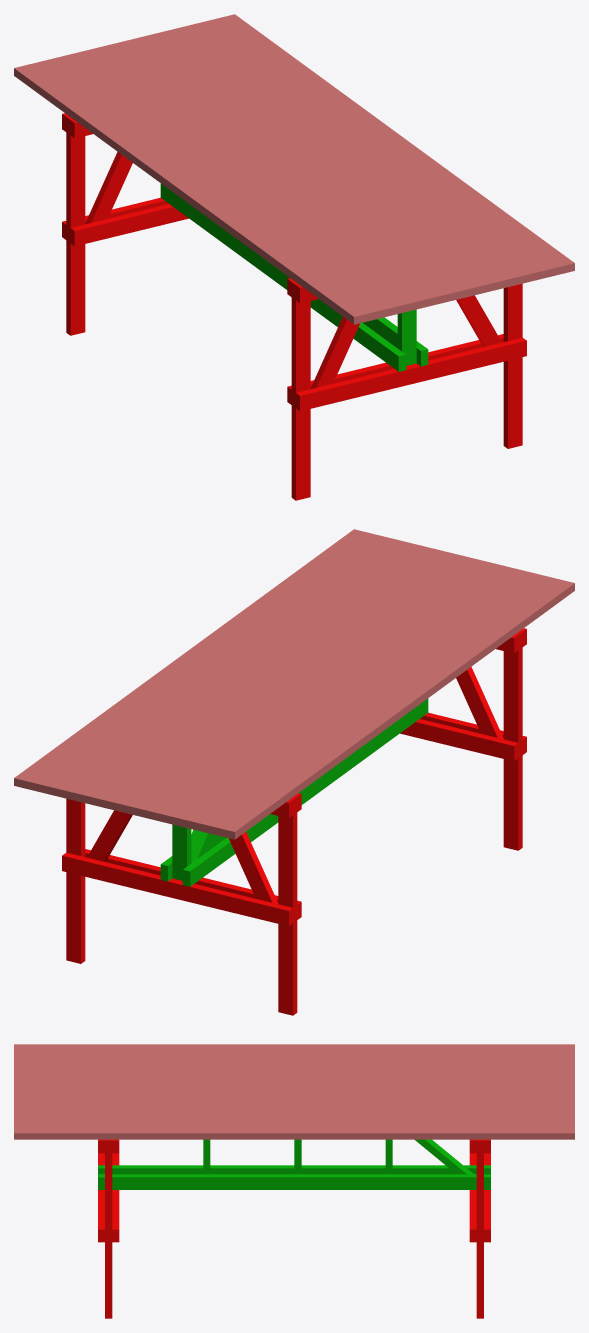
Rendered from result.glb.
The picture shows the model from 3 angles, top to bottom: view 1: azimuth 30°, elevation 25°; view 2: azimuth 150°, elevation 25°; view 3: azimuth 270°, elevation 25°; orthographic projection. The views are drawn at different scales.
Parts seen in each view (by area): view 1: 29fb6596-941a-4d75-aa5b-a5105dc0f8bb__Box, dbf89d74-5f5f-48b8-b1f4-766f8b34c71e__undefined, e744bcac-16fc-46ec-aa03-03eb96029df6__undefined, d8bd2403-8697-4de5-86af-fe728edfdbf6__undefined, 7c765e5b-6cc5-48ab-8eaf-bb7136bedc7c__undefined, 5e24ded6-2e00-4564-b383-c591698852e8__undefined, fd0d709c-c1bd-4bf1-bebe-00cd00451332__undefined, 77e1605f-d9fe-44b2-9e23-e1fc3f649407__undefined, 3b367b04-fcf6-48ce-a17d-4eda5212b355__undefined, 6c9b6258-ed95-4ae9-98ca-1581d162d547__undefined, 0b53a307-1646-45ce-bebf-f7389d0db0a7__undefined, ac2afbc3-1922-4e35-91b4-c4af0ae17771__undefined (+16 smaller); view 2: 29fb6596-941a-4d75-aa5b-a5105dc0f8bb__Box, dbf89d74-5f5f-48b8-b1f4-766f8b34c71e__undefined, e744bcac-16fc-46ec-aa03-03eb96029df6__undefined, d8bd2403-8697-4de5-86af-fe728edfdbf6__undefined, 7c765e5b-6cc5-48ab-8eaf-bb7136bedc7c__undefined, 5e24ded6-2e00-4564-b383-c591698852e8__undefined, fd0d709c-c1bd-4bf1-bebe-00cd00451332__undefined, 77e1605f-d9fe-44b2-9e23-e1fc3f649407__undefined, 3b367b04-fcf6-48ce-a17d-4eda5212b355__undefined, 6c9b6258-ed95-4ae9-98ca-1581d162d547__undefined, 0b53a307-1646-45ce-bebf-f7389d0db0a7__undefined, ac2afbc3-1922-4e35-91b4-c4af0ae17771__undefined (+15 smaller); view 3: 3b367b04-fcf6-48ce-a17d-4eda5212b355__undefined, b593c10b-8e25-4141-84f9-98051e73812d__strutH, 29fb6596-941a-4d75-aa5b-a5105dc0f8bb__Box, 4b4d5c59-efa8-4311-a798-f076e0cb509c__undefined, 9825381a-877d-4500-8d4c-a3041dcc3950__undefined, e744bcac-16fc-46ec-aa03-03eb96029df6__undefined, 4d348abb-503b-4c81-937e-960927441a6b__undefined, ac2afbc3-1922-4e35-91b4-c4af0ae17771__undefined, d8bd2403-8697-4de5-86af-fe728edfdbf6__undefined, 77e1605f-d9fe-44b2-9e23-e1fc3f649407__undefined, 30af621b-6c36-412a-87ef-02020c59c219__strutH, fd0d709c-c1bd-4bf1-bebe-00cd00451332__undefined (+12 smaller).
Part boxes in pixels (x1=…): 29fb6596-941a-4d75-aa5b-a5105dc0f8bb__Box: x1=14, y1=64, x2=368, y2=324; dbf89d74-5f5f-48b8-b1f4-766f8b34c71e__undefined: x1=88, y1=46, x2=442, y2=306; e744bcac-16fc-46ec-aa03-03eb96029df6__undefined: x1=147, y1=32, x2=501, y2=292; d8bd2403-8697-4de5-86af-fe728edfdbf6__undefined: x1=191, y1=21, x2=545, y2=281; 7c765e5b-6cc5-48ab-8eaf-bb7136bedc7c__undefined: x1=44, y1=57, x2=398, y2=317; 5e24ded6-2e00-4564-b383-c591698852e8__undefined: x1=102, y1=43, x2=457, y2=302; fd0d709c-c1bd-4bf1-bebe-00cd00451332__undefined: x1=29, y1=61, x2=383, y2=320; 77e1605f-d9fe-44b2-9e23-e1fc3f649407__undefined: x1=206, y1=18, x2=560, y2=277; 3b367b04-fcf6-48ce-a17d-4eda5212b355__undefined: x1=220, y1=14, x2=574, y2=274; 6c9b6258-ed95-4ae9-98ca-1581d162d547__undefined: x1=58, y1=53, x2=412, y2=313; 0b53a307-1646-45ce-bebf-f7389d0db0a7__undefined: x1=73, y1=50, x2=427, y2=310; ac2afbc3-1922-4e35-91b4-c4af0ae17771__undefined: x1=176, y1=25, x2=530, y2=284; 29fb6596-941a-4d75-aa5b-a5105dc0f8bb__Box: x1=220, y1=579, x2=574, y2=839; dbf89d74-5f5f-48b8-b1f4-766f8b34c71e__undefined: x1=146, y1=561, x2=500, y2=821; e744bcac-16fc-46ec-aa03-03eb96029df6__undefined: x1=87, y1=547, x2=441, y2=807; d8bd2403-8697-4de5-86af-fe728edfdbf6__undefined: x1=43, y1=536, x2=397, y2=796; 7c765e5b-6cc5-48ab-8eaf-bb7136bedc7c__undefined: x1=190, y1=572, x2=544, y2=832; 5e24ded6-2e00-4564-b383-c591698852e8__undefined: x1=131, y1=558, x2=486, y2=817; fd0d709c-c1bd-4bf1-bebe-00cd00451332__undefined: x1=205, y1=576, x2=559, y2=835; 77e1605f-d9fe-44b2-9e23-e1fc3f649407__undefined: x1=28, y1=533, x2=382, y2=792; 3b367b04-fcf6-48ce-a17d-4eda5212b355__undefined: x1=14, y1=529, x2=368, y2=789; 6c9b6258-ed95-4ae9-98ca-1581d162d547__undefined: x1=176, y1=568, x2=530, y2=828; 0b53a307-1646-45ce-bebf-f7389d0db0a7__undefined: x1=161, y1=565, x2=515, y2=825; ac2afbc3-1922-4e35-91b4-c4af0ae17771__undefined: x1=58, y1=540, x2=412, y2=799; 3b367b04-fcf6-48ce-a17d-4eda5212b355__undefined: x1=14, y1=1127, x2=574, y2=1139; b593c10b-8e25-4141-84f9-98051e73812d__strutH: x1=98, y1=1174, x2=490, y2=1189; 29fb6596-941a-4d75-aa5b-a5105dc0f8bb__Box: x1=14, y1=1044, x2=574, y2=1050; 4b4d5c59-efa8-4311-a798-f076e0cb509c__undefined: x1=14, y1=1085, x2=574, y2=1091; 9825381a-877d-4500-8d4c-a3041dcc3950__undefined: x1=14, y1=1091, x2=574, y2=1097; e744bcac-16fc-46ec-aa03-03eb96029df6__undefined: x1=14, y1=1097, x2=574, y2=1103; 4d348abb-503b-4c81-937e-960927441a6b__undefined: x1=14, y1=1103, x2=574, y2=1109; ac2afbc3-1922-4e35-91b4-c4af0ae17771__undefined: x1=14, y1=1109, x2=574, y2=1115; d8bd2403-8697-4de5-86af-fe728edfdbf6__undefined: x1=14, y1=1115, x2=574, y2=1121; 77e1605f-d9fe-44b2-9e23-e1fc3f649407__undefined: x1=14, y1=1121, x2=574, y2=1127; 30af621b-6c36-412a-87ef-02020c59c219__strutH: x1=98, y1=1165, x2=490, y2=1174; fd0d709c-c1bd-4bf1-bebe-00cd00451332__undefined: x1=14, y1=1050, x2=574, y2=1055.
Size of the model in its own units: 770 by 725 by 2000.
